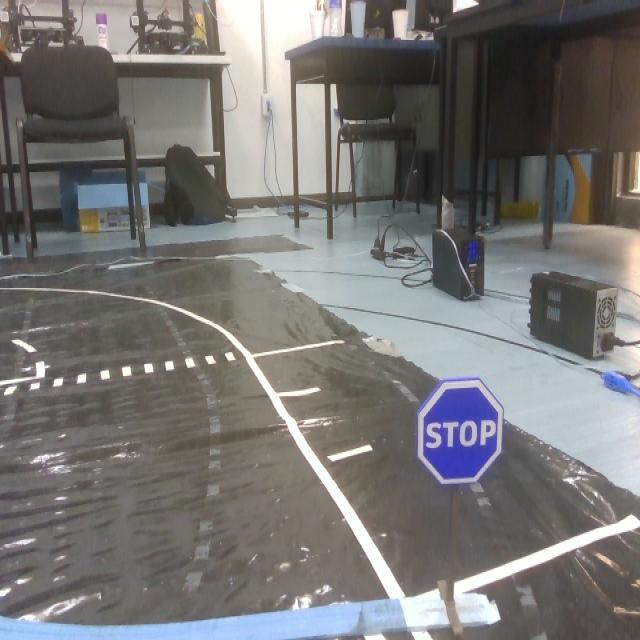no_entry: (426, 374, 504, 490)
